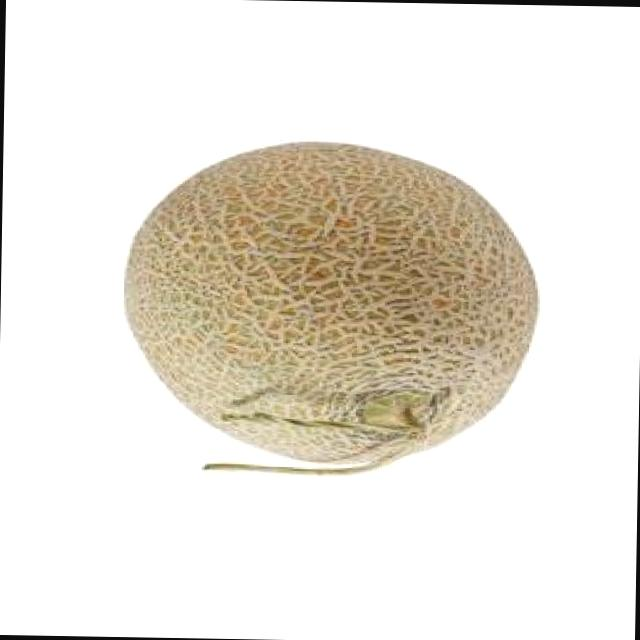cantaloupe: (118, 138, 540, 478)
